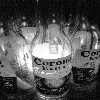beer: (32, 3, 72, 100)
